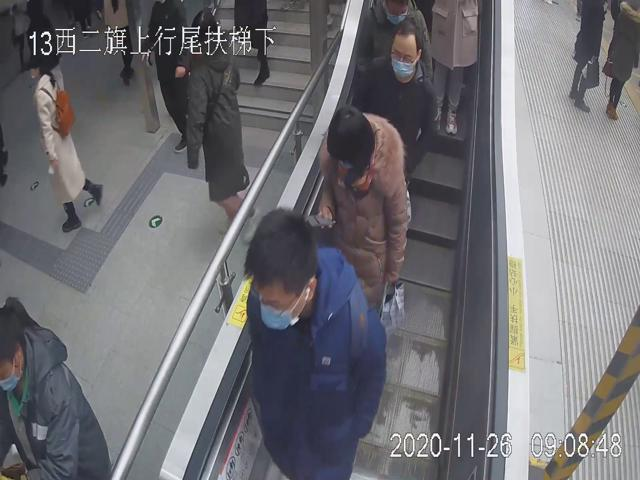person: (244, 204, 386, 480), (308, 102, 411, 327), (21, 46, 104, 232), (351, 18, 437, 180)
